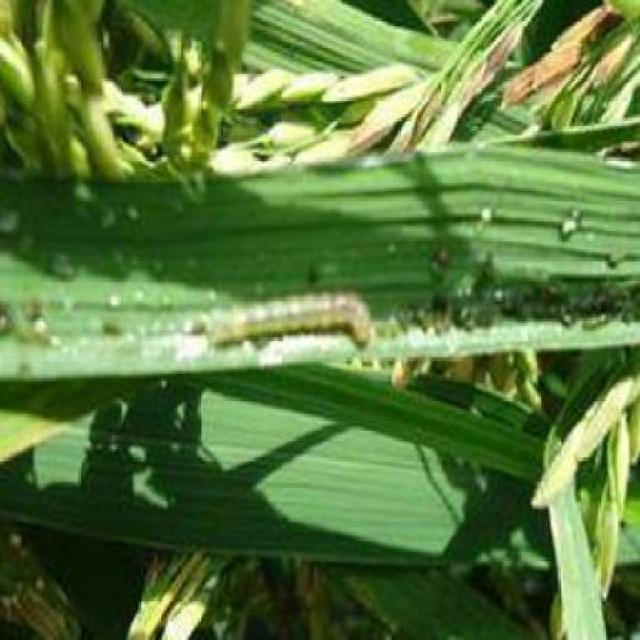leaf-folder: (193, 266, 381, 397)
